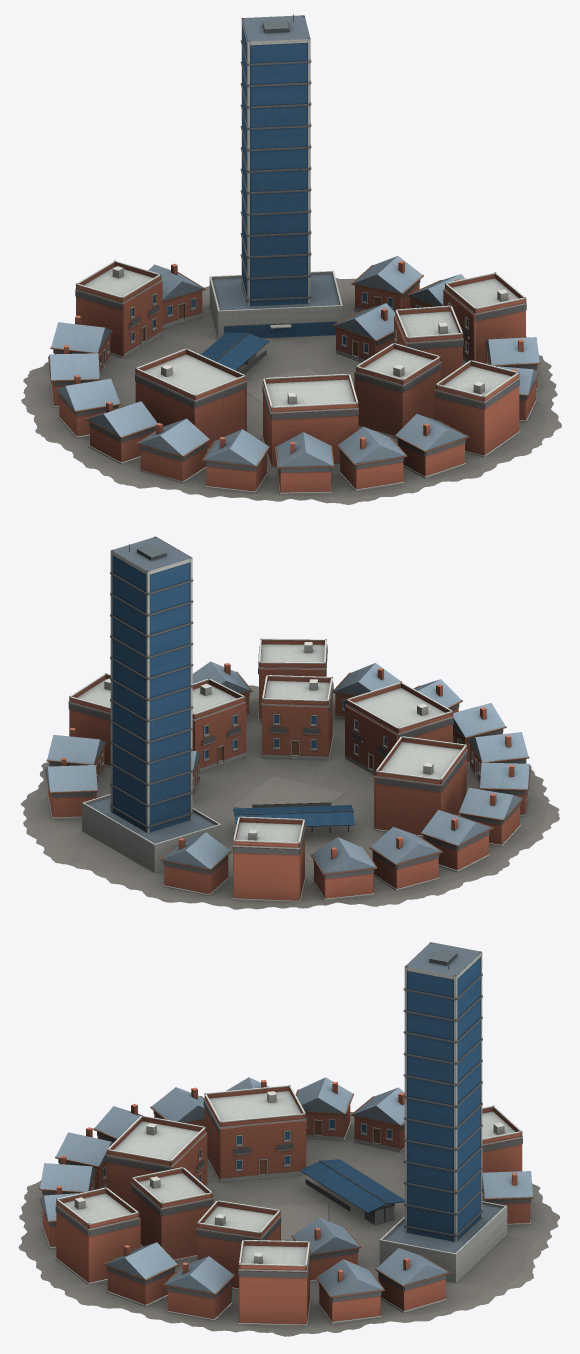
The model's file is modern-town-big-b-europe.glb.
3 views of the same model, one above another, from view 1: azimuth 30°, elevation 25°; view 2: azimuth 150°, elevation 25°; view 3: azimuth 270°, elevation 25° (orthographic).
Visible parts, largest first — view 1: LOD0; view 2: LOD0; view 3: LOD0.
Boxes of the visible parts, box(x1,y1,x2,y2) form: LOD0: box(21, 14, 561, 504); LOD0: box(21, 536, 559, 909); LOD0: box(18, 942, 559, 1336).
Size of what is drawn, in the model's own units: 7.91 by 4.77 by 7.91.
Materials: 3 (3 with a texture image).
